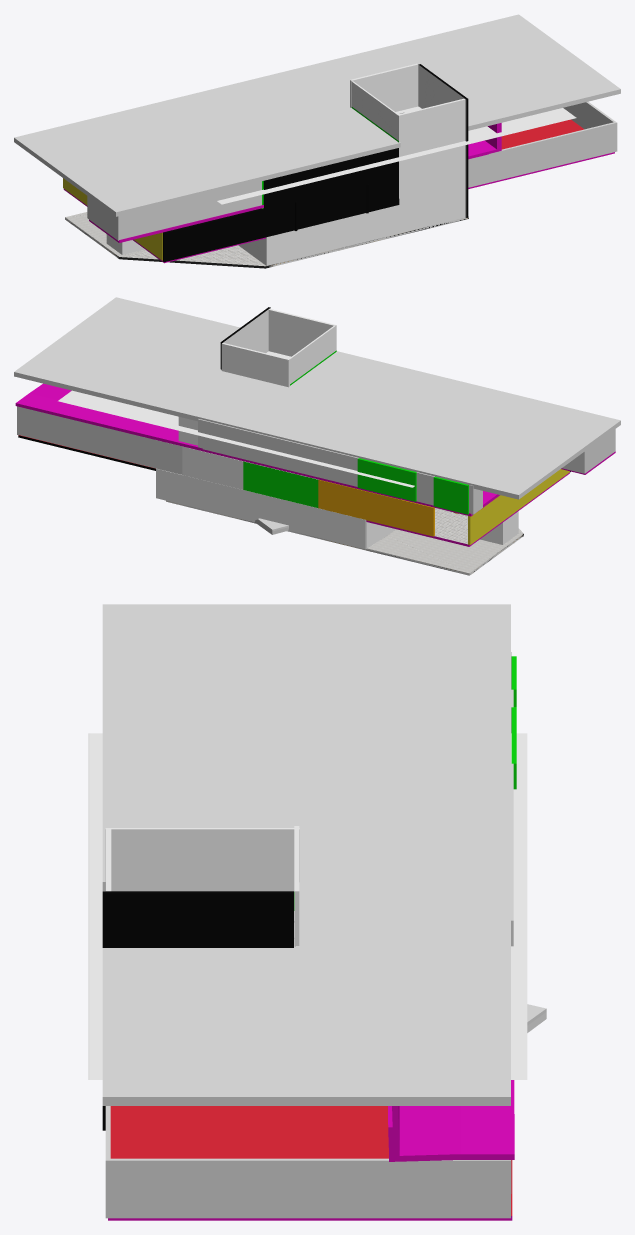
File: bocanord-0.7.glb
The picture shows the model from 3 angles, top to bottom: view 1: azimuth 30°, elevation 25°; view 2: azimuth 150°, elevation 25°; view 3: azimuth 270°, elevation 25°; orthographic projection. The views are drawn at different scales.
Parts seen in each view (by area): view 1: ceiling.001, south-wall-patio, back-wall, wall-concert-hall, default-wall-2ndfloor.001, floor, WhatsApp Image 2021-10-09 at 08.57.33, south-wall-glass, east-wall, floor 1er piso, bar-wall, floor-2nd (+2 smaller); view 2: ceiling.001, north-wall, wall-concert-hall, default-wall-2ndfloor.009, default-wall.001, floor-2nd, floor, recepcio-wall, WhatsApp Image 2021-10-09 at 08.57.33, south-wall-glass, south-wall-patio, floor 1er piso (+10 smaller); view 3: ceiling.001, wall-concert-hall, floor 1er piso, bar-wall, east-wall, WhatsApp Image 2021-10-09 at 08.57.33, floor-2nd.
Boxes of the visible parts, x1=… form: ceiling.001: x1=14, y1=14, x2=620, y2=216; south-wall-patio: x1=238, y1=98, x2=465, y2=265; back-wall: x1=163, y1=148, x2=399, y2=262; wall-concert-hall: x1=468, y1=101, x2=617, y2=187; default-wall-2ndfloor.001: x1=87, y1=181, x2=261, y2=240; floor: x1=65, y1=212, x2=468, y2=268; WhatsApp Image 2021-10-09 at 08.57.33: x1=217, y1=106, x2=576, y2=204; south-wall-glass: x1=350, y1=63, x2=418, y2=111; east-wall: x1=418, y1=64, x2=468, y2=217; floor 1er piso: x1=63, y1=119, x2=614, y2=263; bar-wall: x1=351, y1=81, x2=400, y2=198; floor-2nd: x1=89, y1=123, x2=501, y2=242; ceiling.001: x1=14, y1=297, x2=620, y2=499; north-wall: x1=156, y1=468, x2=366, y2=549; wall-concert-hall: x1=17, y1=406, x2=182, y2=474; default-wall-2ndfloor.009: x1=198, y1=419, x2=358, y2=486; default-wall.001: x1=182, y1=446, x2=318, y2=507; floor-2nd: x1=15, y1=383, x2=615, y2=516; floor: x1=166, y1=500, x2=523, y2=575; recepcio-wall: x1=318, y1=479, x2=434, y2=536; WhatsApp Image 2021-10-09 at 08.57.33: x1=58, y1=351, x2=414, y2=487; south-wall-glass: x1=221, y1=343, x2=289, y2=387; south-wall-patio: x1=268, y1=309, x2=335, y2=356; floor 1er piso: x1=18, y1=435, x2=569, y2=546; ceiling.001: x1=102, y1=604, x2=510, y2=1105; wall-concert-hall: x1=105, y1=1106, x2=511, y2=1218; floor 1er piso: x1=108, y1=1106, x2=512, y2=1220; bar-wall: x1=105, y1=828, x2=299, y2=910; east-wall: x1=102, y1=891, x2=293, y2=1130; WhatsApp Image 2021-10-09 at 08.57.33: x1=88, y1=733, x2=527, y2=1079; floor-2nd: x1=388, y1=1080, x2=514, y2=1161.
Bounding box in the file's own units: 45.81 × 10.48 × 18.
Materials: 12 (4 with a texture image).
